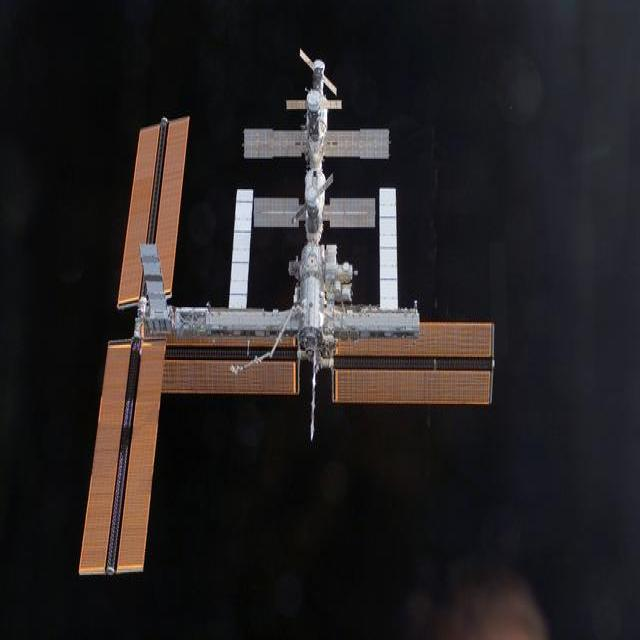medium_debris: (79, 61, 494, 575)
